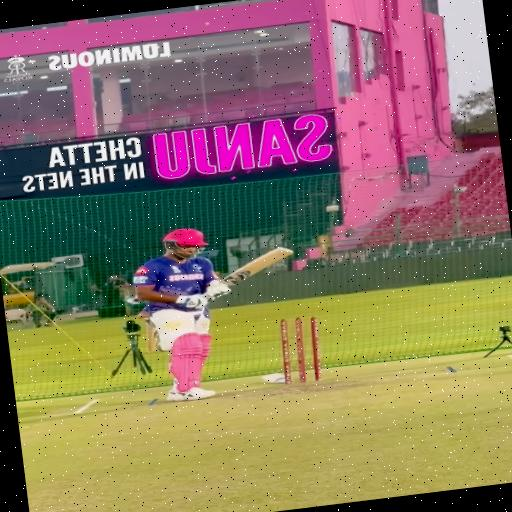Cricket bat: (223, 247, 294, 286)
